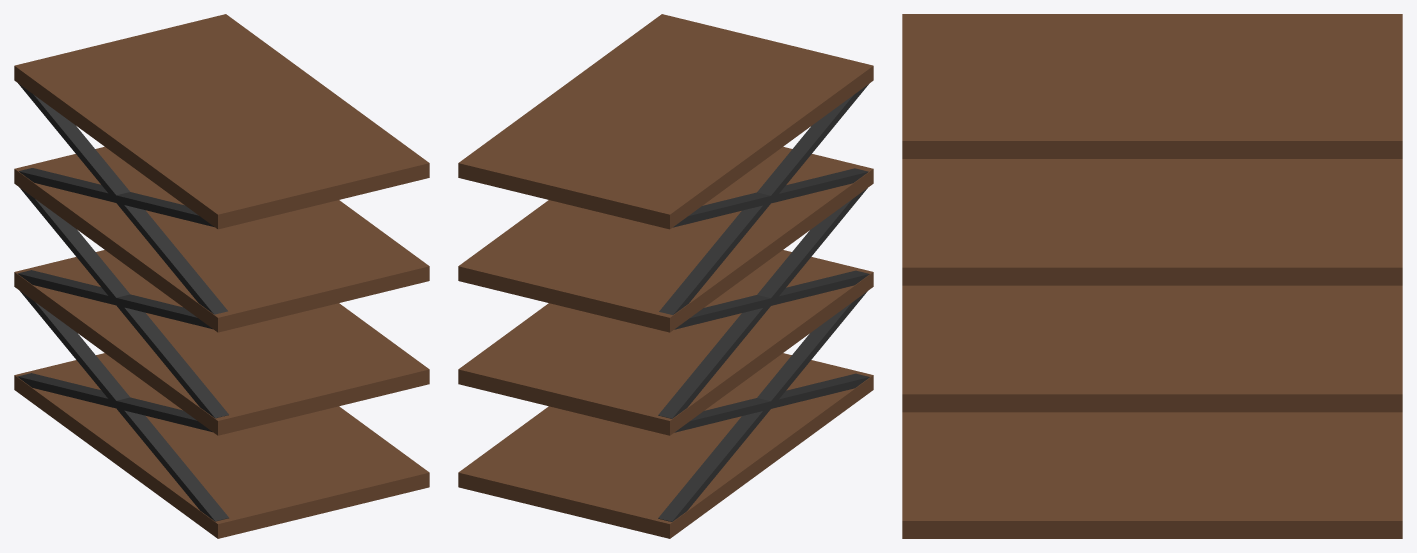
File: shelf3.fbx
3 views of the same model, side by side, from view 1: azimuth 30°, elevation 25°; view 2: azimuth 150°, elevation 25°; view 3: azimuth 270°, elevation 25° (orthographic). The views are drawn at different scales.
Visible parts, largest first — view 1: Cube.004; view 2: Cube.004; view 3: Cube.004.
Part boxes in pixels (x1,y1,x2,y2): Cube.004: (14, 14, 429, 538); Cube.004: (458, 14, 873, 538); Cube.004: (902, 14, 1402, 538).
Bounding box in the file's own units: 300 × 439 × 500.
